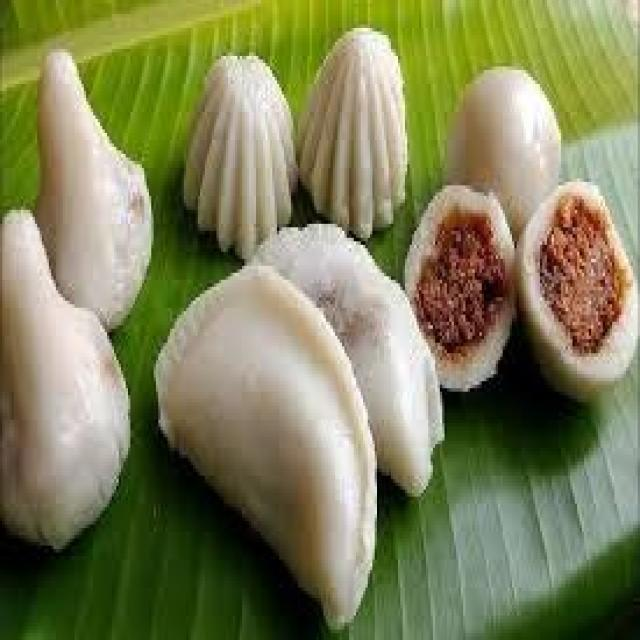poorna kolukattai: (0, 0, 640, 637)
